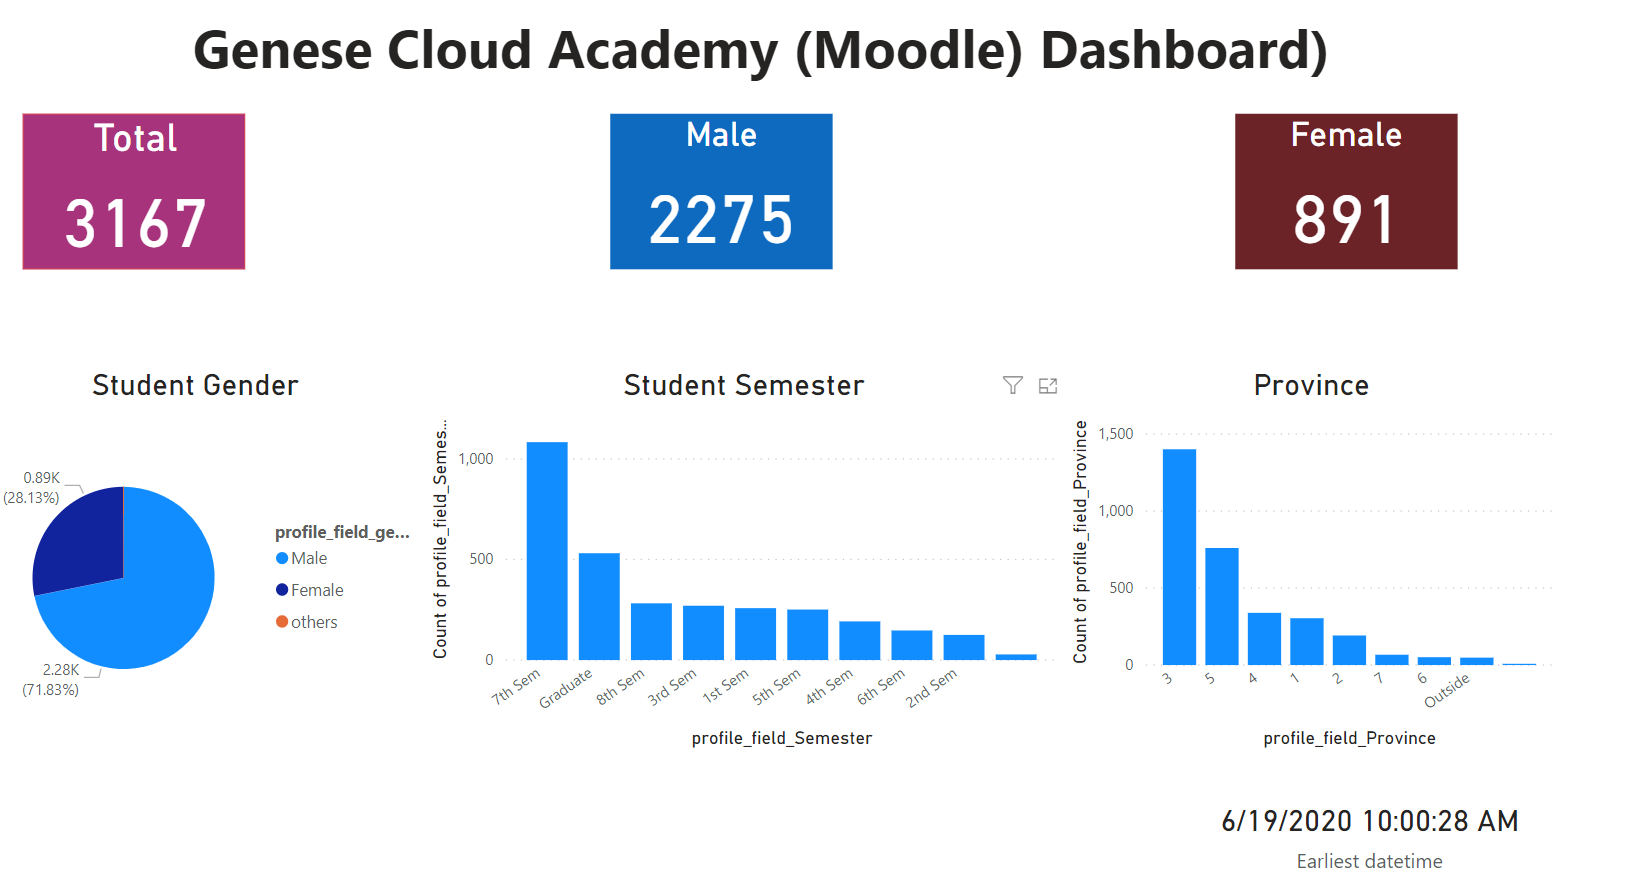

The page's visual inventory and layout, read from the dashboard file:
{"tool":"powerbi","page":{"name":"Dashboard","canvas":[1280,720],"ordinal":0},"visuals":[{"type":"pieChart","title":"Student Gender","fields":{"Category":["user_latest.profile_field_gender1"],"Series":["user_latest.profile_field_gender1"],"Y":["CountNonNull(user_latest.profile_field_gender)"]},"box":[2.1,303.2,367.2,310.5],"z":0},{"type":"columnChart","title":"Student Semester","fields":{"Category":["user_latest.profile_field_Semester1"],"Y":["CountNonNull(user_latest.profile_field_Semester)1"]},"box":[369.4,303.2,513.4,310.5],"z":1000},{"type":"columnChart","title":"Province","fields":{"Category":["user_latest.profile_field_Province1"],"Y":["CountNonNull(user_latest.profile_field_Province)1"]},"box":[882.3,302.7,397.4,310.5],"z":2000},{"type":"card","title":"Total","fields":{"Values":["CountNonNull(user_latest.id)"]},"box":[47.1,98.8,178.8,124.4],"z":3000},{"type":"card","title":"Male","fields":{"Values":["CountNonNull(user_latest.profile_field_gender)"]},"box":[518.2,98.8,178.8,124.4],"z":4000},{"type":"card","title":"Female","fields":{"Values":["CountNonNull(user_latest.profile_field_gender)"]},"box":[1019.5,98.8,178.8,124.4],"z":5000},{"type":"textbox","box":[0,10.9,1279.3,72.5],"z":6000},{"type":"card","fields":{"Values":["Min(Kathmandu.datetime)"]},"box":[994.2,641.5,268.2,68.9],"z":7000}]}

Visuals, with their boxes on the page's 1280x720 design canvas (x1, y1, x2, y2). These are canvas units, not pixel positions in the 1625x876 screenshot, which may show the page scaled, cropped or inside an application window:
"Student Gender" pieChart: bbox=[2, 303, 369, 614]
"Student Semester" columnChart: bbox=[369, 303, 883, 614]
"Province" columnChart: bbox=[882, 303, 1280, 613]
"Total" card: bbox=[47, 99, 226, 223]
"Male" card: bbox=[518, 99, 697, 223]
"Female" card: bbox=[1020, 99, 1198, 223]
textbox: bbox=[0, 11, 1279, 83]
card - Min(Kathmandu.datetime): bbox=[994, 642, 1262, 710]
